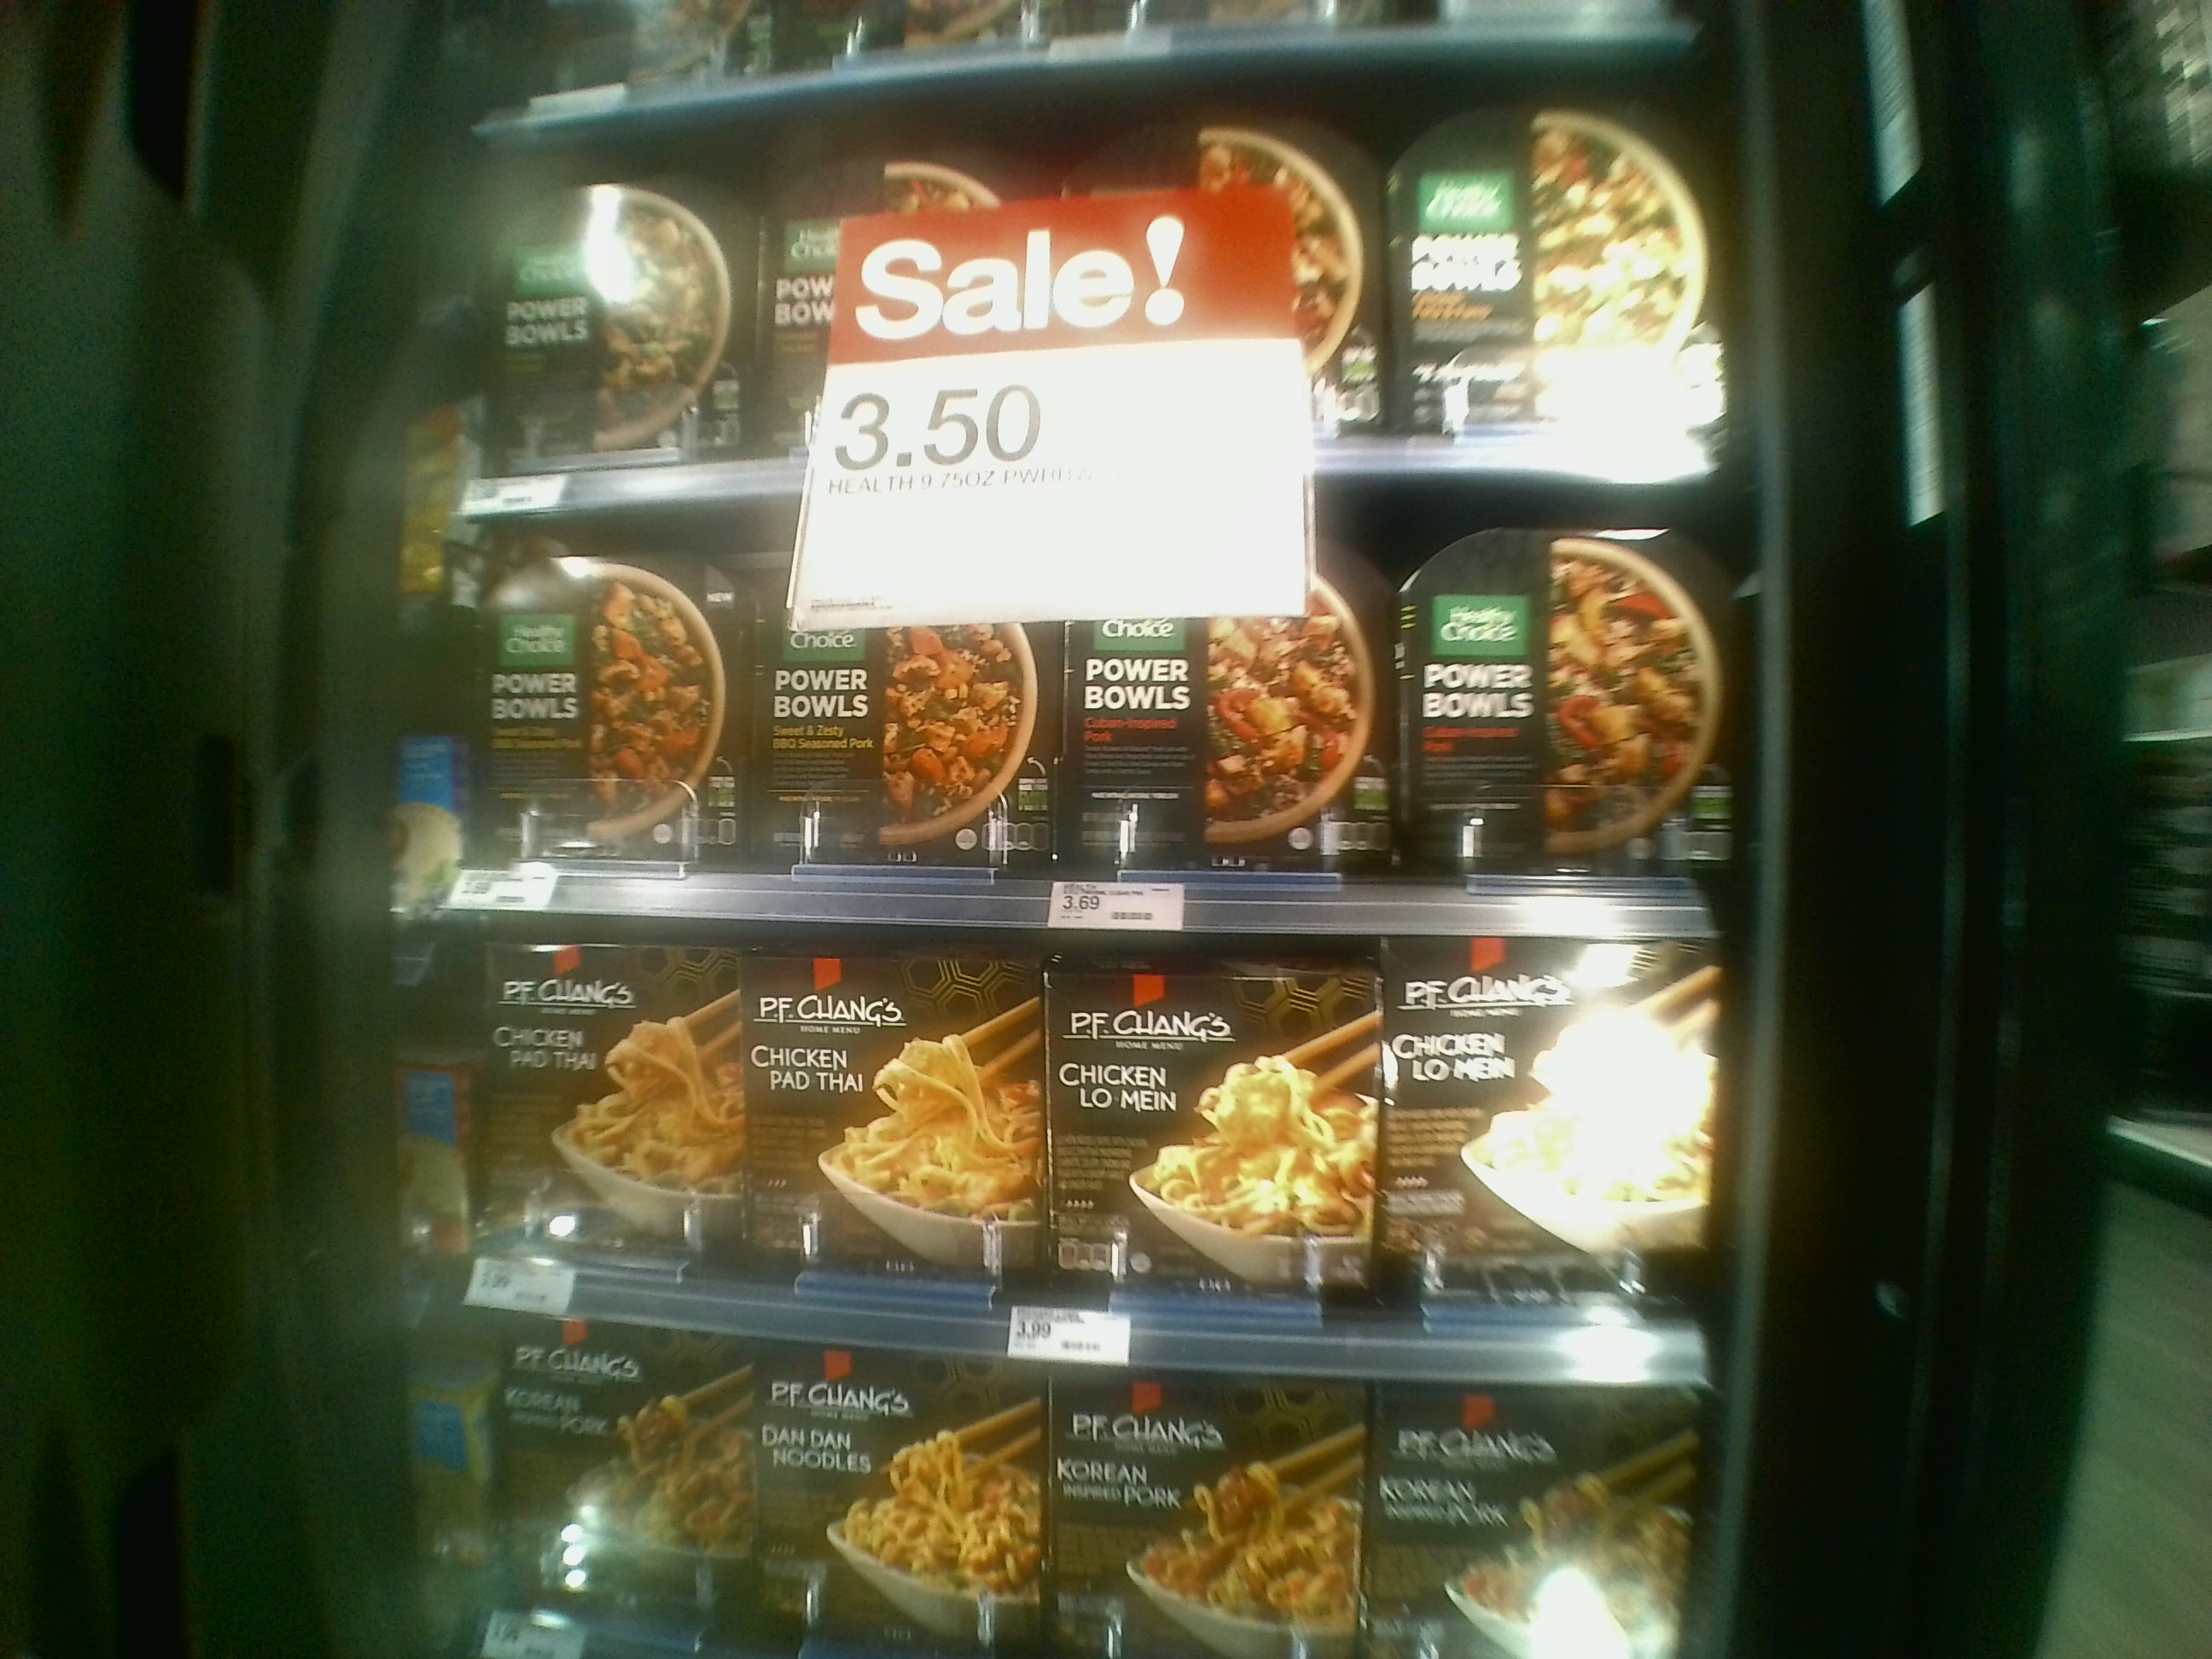shelf: (441, 897, 1726, 1373), (453, 486, 1756, 934)
